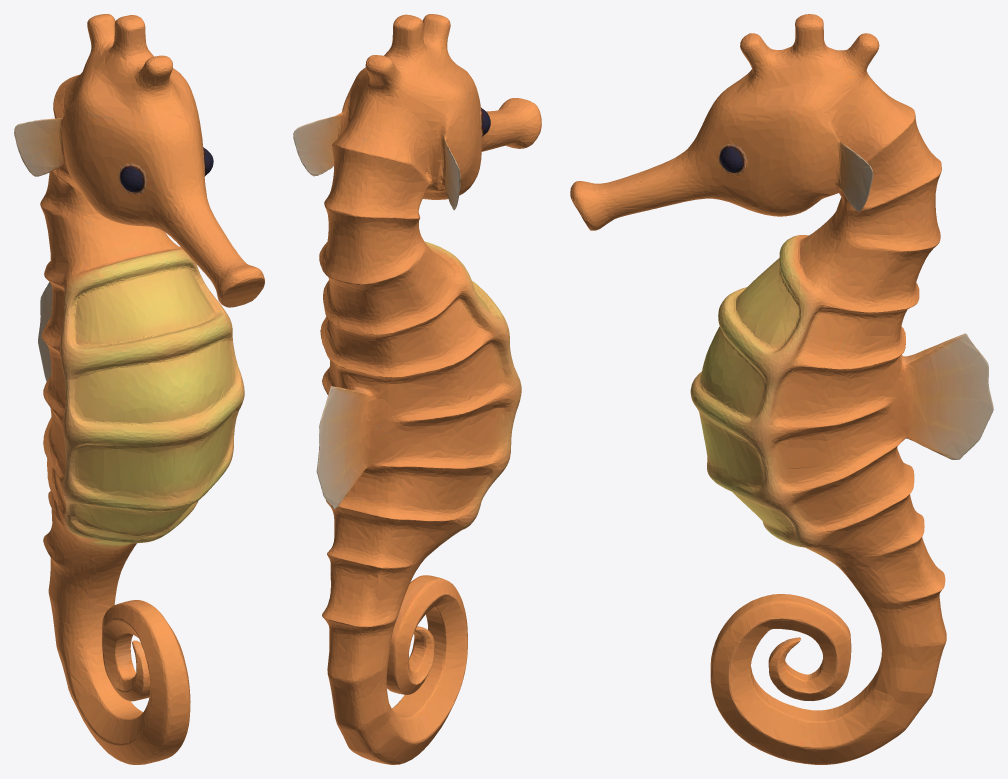
File: meshy-seahorse.glb
The picture shows the model from 3 angles, left to right: view 1: azimuth 30°, elevation 25°; view 2: azimuth 150°, elevation 25°; view 3: azimuth 270°, elevation 25°; orthographic projection.
Bounding box in the file's own units: 0.4749 × 1.9 × 0.9811.
Materials: 1 (1 with a texture image).
